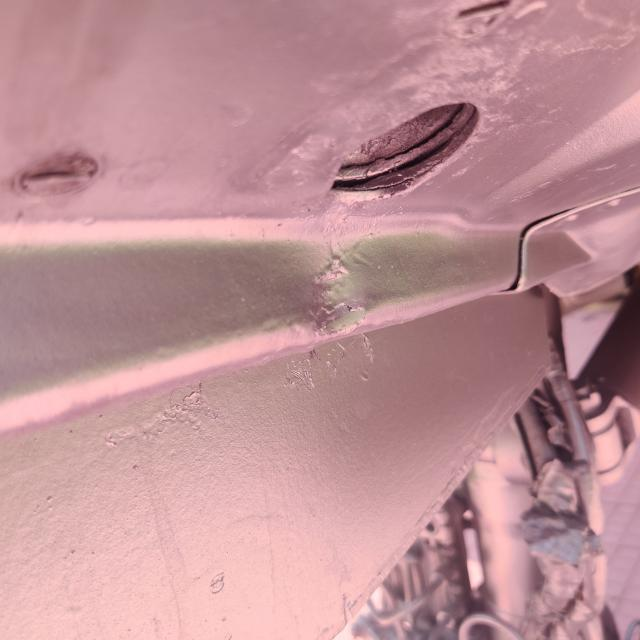dent: (269, 230, 390, 365)
